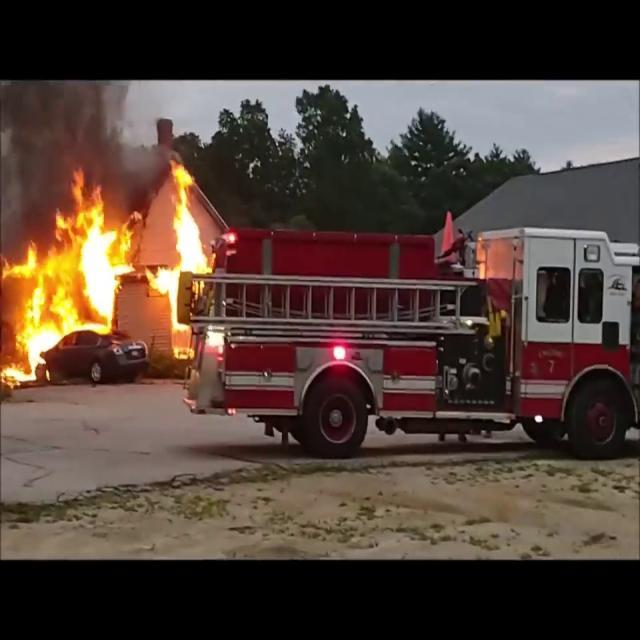Fire: (0, 173, 135, 384), (146, 160, 217, 356)
Smoke: (0, 79, 153, 220)
